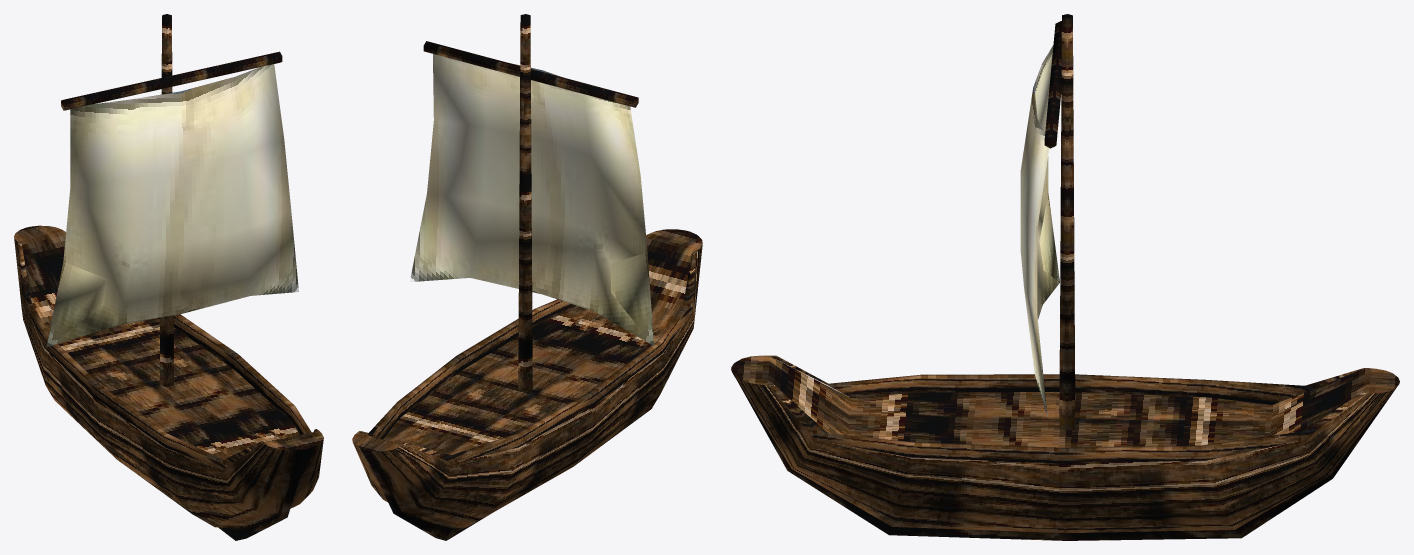
File: boat2.glb
3 renders of one model, left to right at view 1: azimuth 30°, elevation 25°; view 2: azimuth 150°, elevation 25°; view 3: azimuth 270°, elevation 25°, orthographic. The views are drawn at different scales.
Visible parts, largest first — view 1: boat.ms3d.mo; view 2: boat.ms3d.mo; view 3: boat.ms3d.mo.
Part boxes in pixels (x1,y1,x2,y2): boat.ms3d.mo: [14, 14, 323, 540]; boat.ms3d.mo: [352, 14, 702, 540]; boat.ms3d.mo: [731, 14, 1399, 540].
Size of the model in its own units: 10.67 by 19.23 by 22.37.
Materials: 2 (2 with a texture image).
